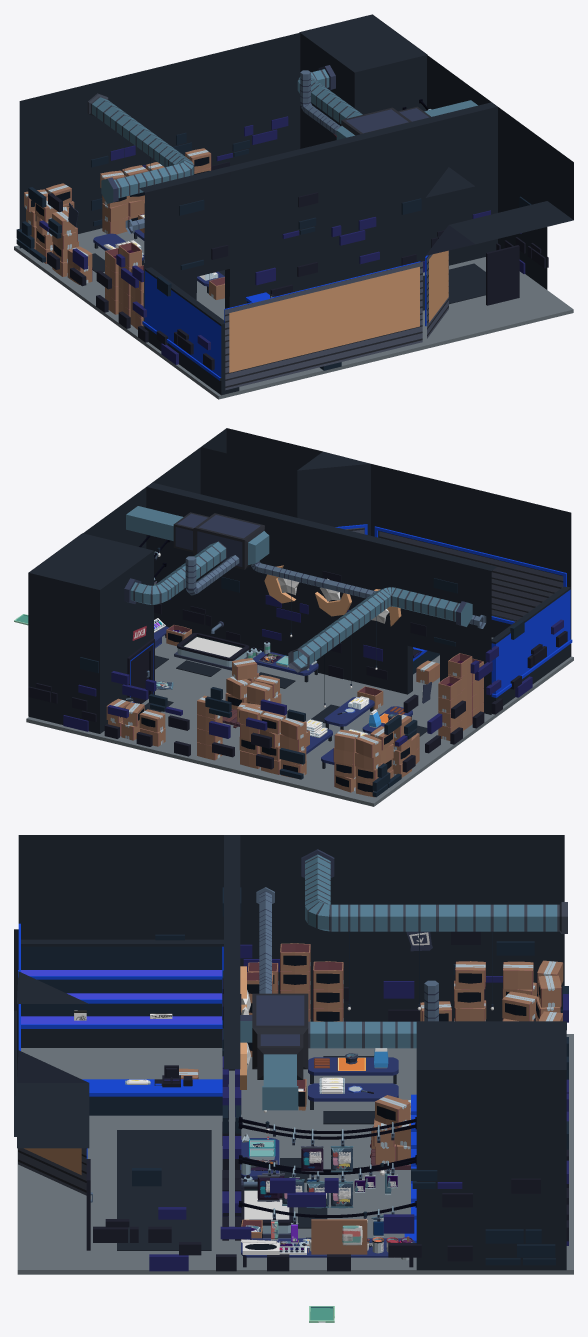
The model's file is INT_SnackHouse.fbx.
3 renders of one model, top to bottom at view 1: azimuth 30°, elevation 25°; view 2: azimuth 150°, elevation 25°; view 3: azimuth 270°, elevation 25°, orthographic. The views are drawn at different scales.
Visible parts, largest first — view 1: Cube.026, Cube.033, Cube.024, Pipes, Counter.002, Cube.619, Cube.031, Cube.025, Cube.032, Plane.004, Cube.1123, FoundsBox.013 (+10 smaller); view 2: Cube.026, Cube.033, Cube.024, Pipes, Cube.032, Counter.002, Cube.031, Cube.619, Cube.1121, Cube.1088, FoundsBox.019, FoundsBox.002 (+18 smaller); view 3: Cube.026, Cube.024, Cube.033, Counter.002, Pipes, Cube.028, Cube.1123, Counter.001, Cube.031, FoundsBox.024, Cube.038, FoundsBox.017 (+19 smaller).
Boxes of the visible parts, x1,y1,x2,y2 form: Cube.026: [19, 15, 573, 372]; Cube.033: [299, 14, 427, 148]; Cube.024: [14, 228, 573, 399]; Pipes: [87, 65, 477, 233]; Counter.002: [142, 267, 239, 395]; Cube.619: [225, 261, 422, 390]; Cube.031: [16, 187, 214, 370]; Cube.025: [179, 192, 490, 296]; Cube.032: [91, 116, 288, 226]; Plane.004: [486, 245, 519, 305]; Cube.1123: [422, 263, 485, 310]; FoundsBox.013: [100, 170, 128, 234]; Cube.026: [40, 428, 571, 714]; Cube.033: [28, 533, 153, 733]; Cube.024: [26, 635, 573, 806]; Pipes: [124, 506, 486, 672]; Cube.032: [28, 657, 305, 779]; Counter.002: [491, 586, 572, 705]; Cube.031: [372, 619, 567, 797]; Cube.619: [379, 531, 563, 620]; Cube.1121: [154, 571, 457, 679]; Cube.1088: [174, 621, 249, 670]; FoundsBox.019: [106, 698, 165, 746]; FoundsBox.002: [355, 734, 381, 797]; Cube.026: [14, 835, 564, 1175]; Cube.024: [17, 1034, 573, 1274]; Cube.033: [416, 1021, 566, 1270]; Counter.002: [18, 939, 223, 1047]; Pipes: [240, 849, 567, 1110]; Cube.028: [93, 1168, 555, 1271]; Cube.1123: [117, 1130, 211, 1250]; Counter.001: [82, 1079, 222, 1115]; Cube.031: [155, 931, 566, 1029]; FoundsBox.024: [373, 1095, 410, 1164]; Cube.038: [311, 1219, 367, 1254]; FoundsBox.017: [454, 961, 486, 1021].
Size of the model in its own units: 2562 by 843 by 1996.
